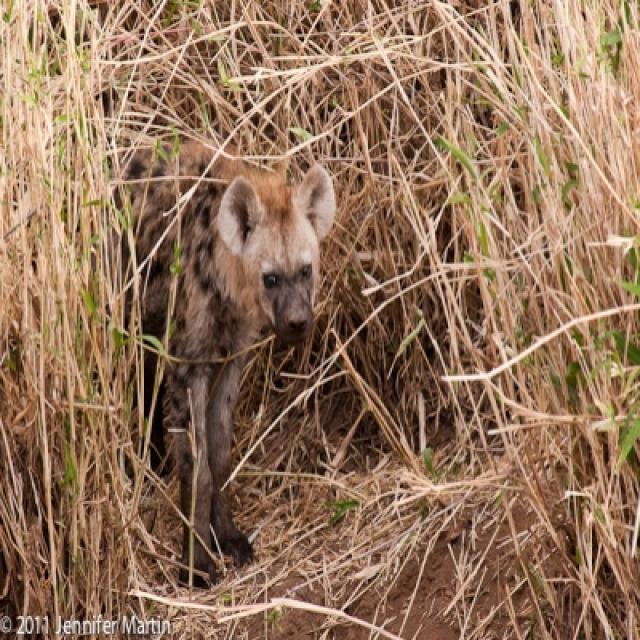hyena: (134, 154, 339, 574)
